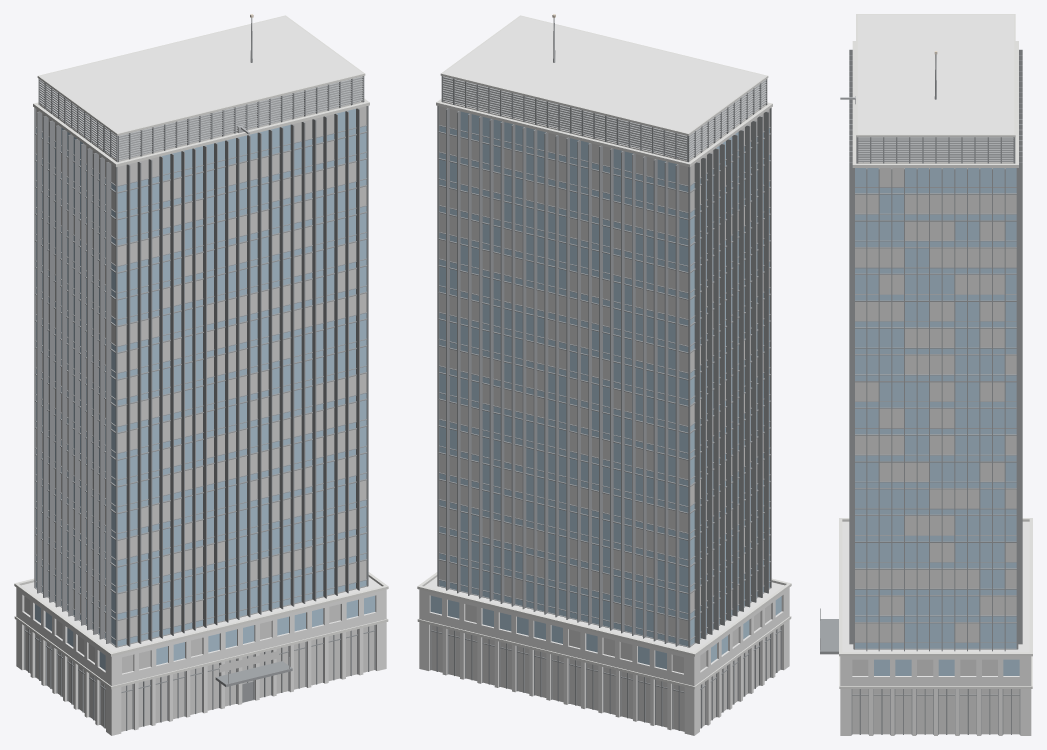
Rendered from tower_slab290.glb.
3 views of the same model, side by side, from view 1: azimuth 30°, elevation 25°; view 2: azimuth 150°, elevation 25°; view 3: azimuth 270°, elevation 25° (orthographic).
Parts seen in each view (by area): view 1: tower_slab290_Accent, tower_slab290_Glass, tower_slab290_WindowsLit, tower_slab290_Frames, tower_slab290_Roof, tower_slab290_Walls2, tower_slab290_Details, tower_slab290_Trim; view 2: tower_slab290_Accent, tower_slab290_Glass, tower_slab290_WindowsLit, tower_slab290_Frames, tower_slab290_Roof, tower_slab290_Walls2, tower_slab290_Details, tower_slab290_Trim; view 3: tower_slab290_Glass, tower_slab290_WindowsLit, tower_slab290_Roof, tower_slab290_Accent, tower_slab290_Frames, tower_slab290_Walls2, tower_slab290_Trim, tower_slab290_Details.
Part boxes in pixels (<box>): tower_slab290_Accent: <box>37,108,359,686</box>; tower_slab290_Glass: <box>35,109,375,670</box>; tower_slab290_WindowsLit: <box>24,106,374,731</box>; tower_slab290_Frames: <box>24,76,375,730</box>; tower_slab290_Roof: <box>21,16,381,652</box>; tower_slab290_Walls2: <box>16,587,386,735</box>; tower_slab290_Details: <box>39,18,363,683</box>; tower_slab290_Trim: <box>14,15,388,689</box>; tower_slab290_Accent: <box>446,108,768,646</box>; tower_slab290_Glass: <box>430,111,781,669</box>; tower_slab290_WindowsLit: <box>431,106,780,731</box>; tower_slab290_Frames: <box>430,76,781,730</box>; tower_slab290_Roof: <box>424,16,784,652</box>; tower_slab290_Walls2: <box>419,587,789,735</box>; tower_slab290_Details: <box>442,18,766,160</box>; tower_slab290_Trim: <box>417,15,791,689</box>; tower_slab290_Glass: <box>855,168,1019,675</box>; tower_slab290_WindowsLit: <box>852,168,1019,734</box>; tower_slab290_Roof: <box>842,14,1029,652</box>; tower_slab290_Accent: <box>820,49,1022,654</box>; tower_slab290_Frames: <box>851,137,1020,734</box>; tower_slab290_Walls2: <box>840,656,1031,735</box>; tower_slab290_Trim: <box>839,14,1032,688</box>; tower_slab290_Details: <box>820,54,1013,650</box>.
Bounding box in the file's own units: 141 × 312 × 93.7.
